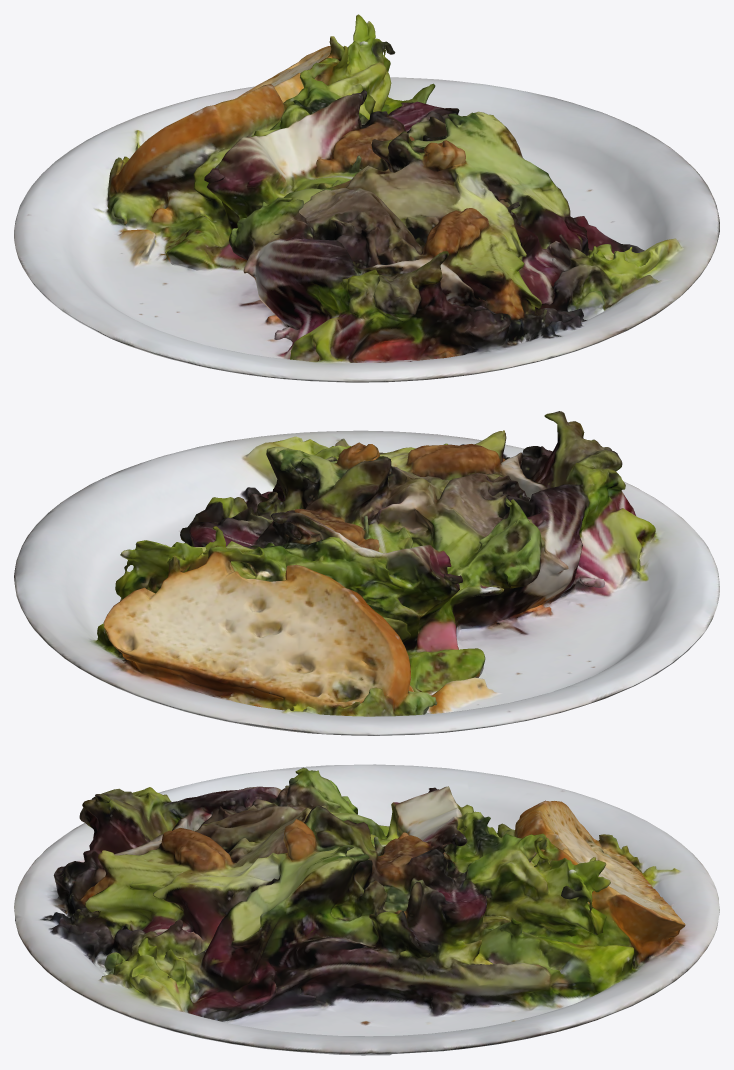
File: ProSport_Harness_to_Booster_Seat.glb
The picture shows the model from 3 angles, top to bottom: view 1: azimuth 30°, elevation 25°; view 2: azimuth 150°, elevation 25°; view 3: azimuth 270°, elevation 25°; orthographic projection.
Parts seen in each view (by area): view 1: ProSport_Harness_to_Booster_Seat; view 2: ProSport_Harness_to_Booster_Seat; view 3: ProSport_Harness_to_Booster_Seat.
Part boxes in pixels (<box>): ProSport_Harness_to_Booster_Seat: <box>14,14,719,382</box>; ProSport_Harness_to_Booster_Seat: <box>14,411,719,735</box>; ProSport_Harness_to_Booster_Seat: <box>14,764,719,1055</box>.
Bounding box in the file's own units: 0.2271 × 0.0546 × 0.2272.
Materials: 1 (1 with a texture image).
